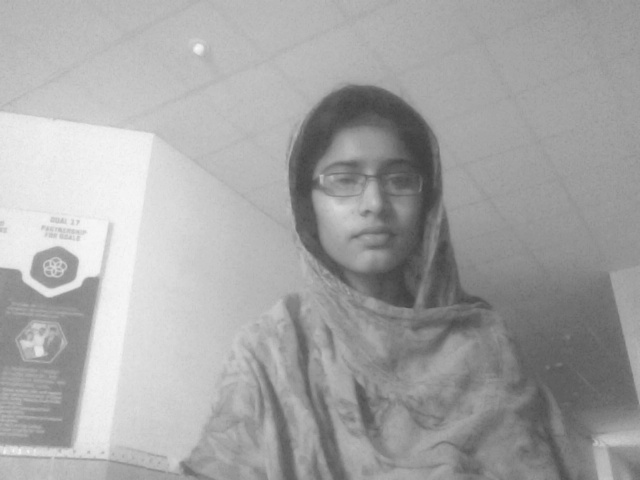Face: (140, 2, 526, 349)
